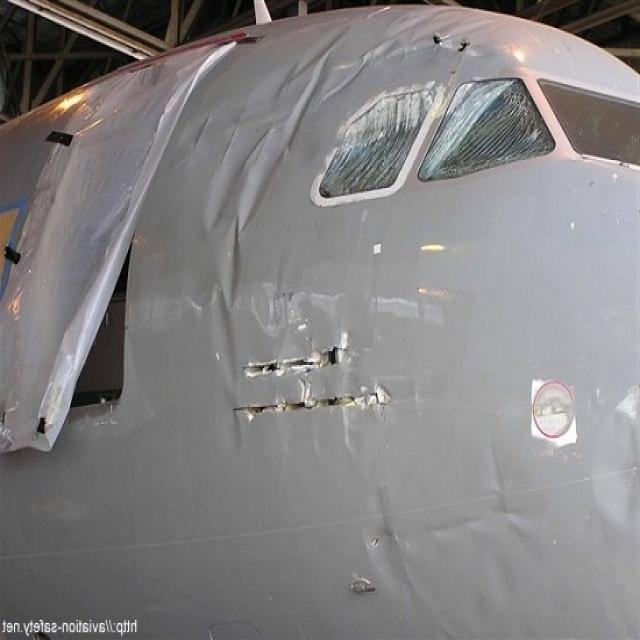crack: (219, 327, 398, 428)
